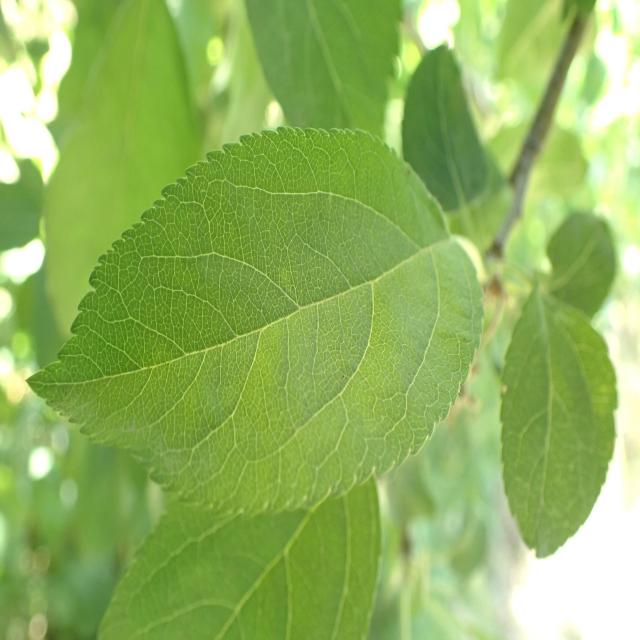healthy: (24, 126, 485, 518), (97, 470, 383, 640), (499, 286, 618, 560), (400, 41, 513, 251), (244, 0, 404, 144)
